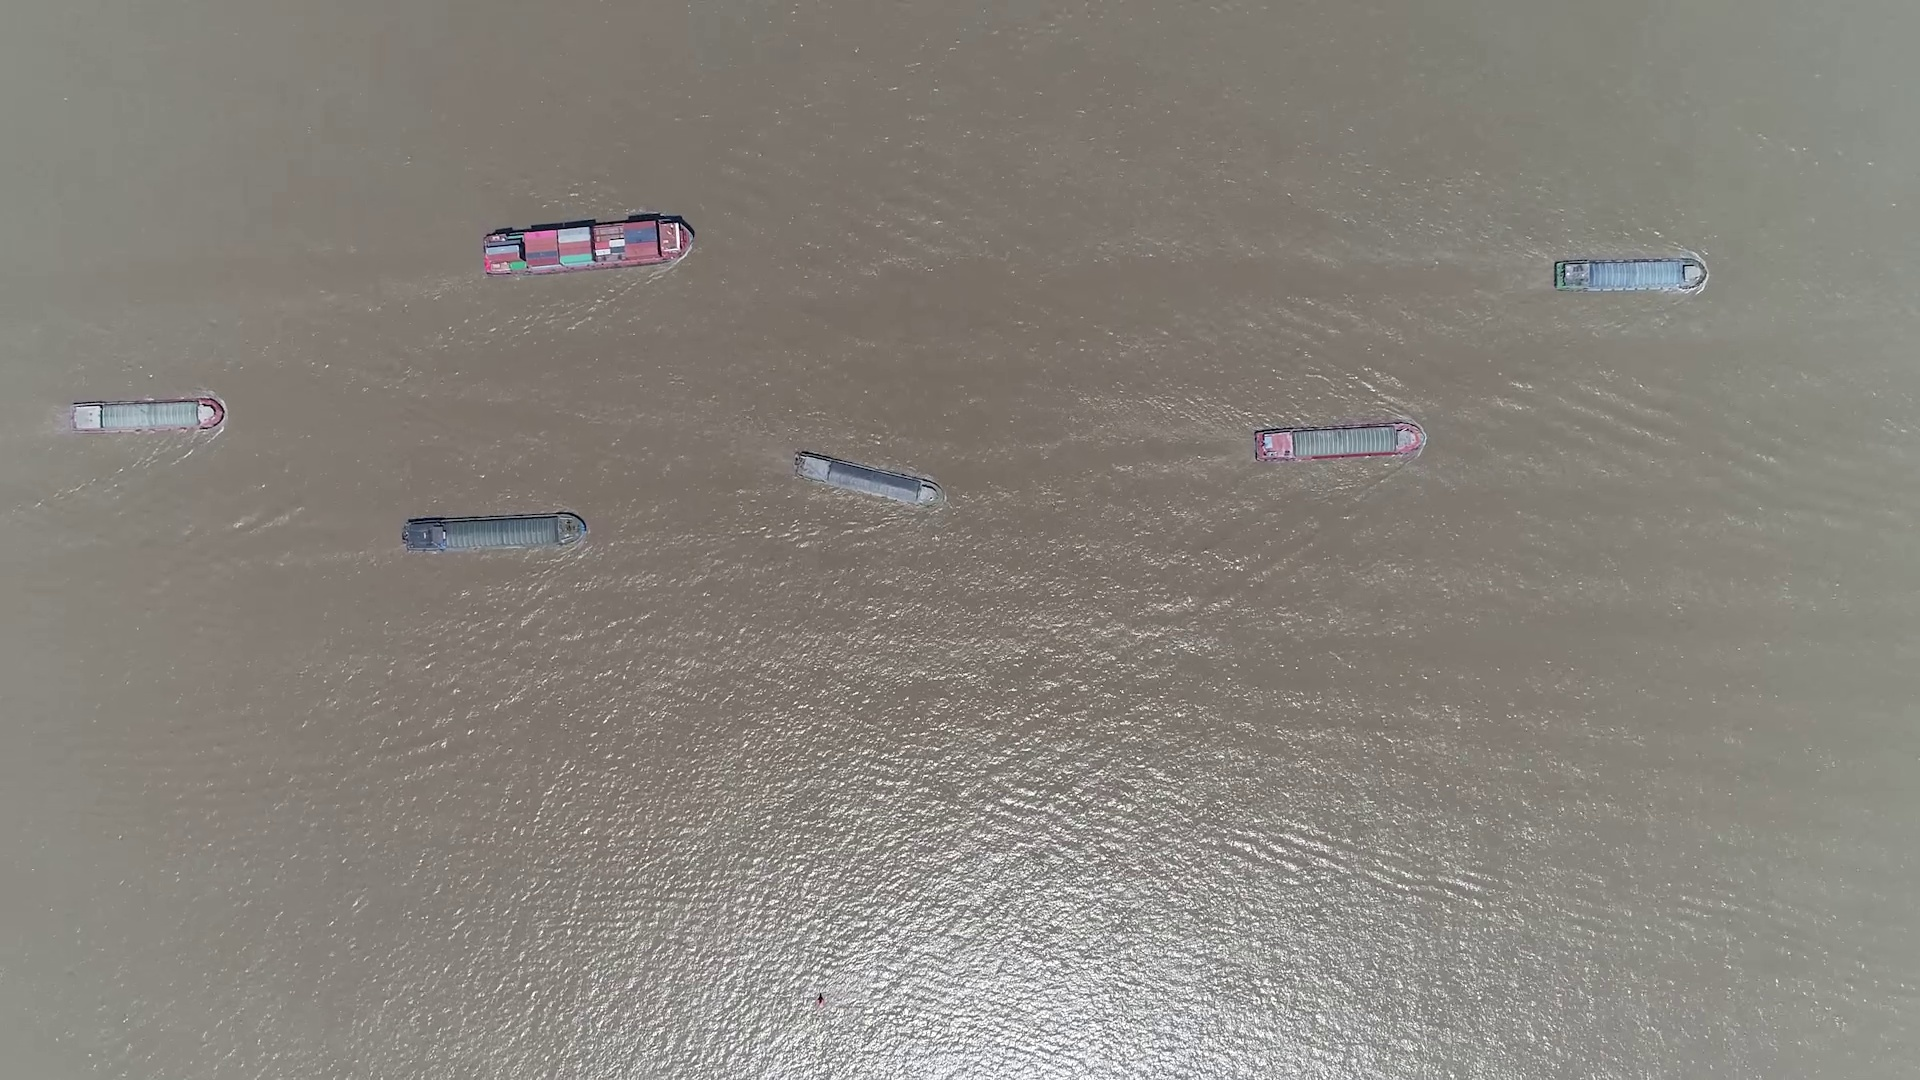ship: (483, 219, 694, 276), (793, 451, 939, 506), (401, 513, 585, 553), (1253, 422, 1425, 462), (1553, 258, 1705, 293), (69, 400, 224, 433)
